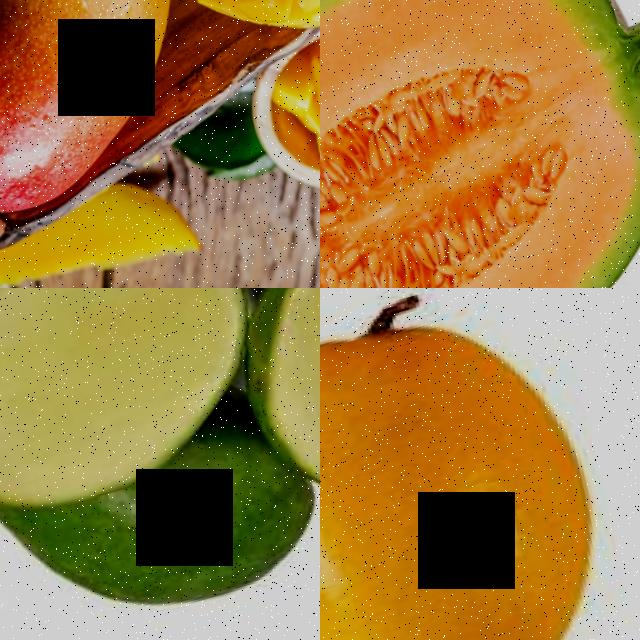mango: (320, 288, 640, 640), (0, 425, 320, 640), (0, 0, 235, 234)
melon: (320, 0, 640, 288)
